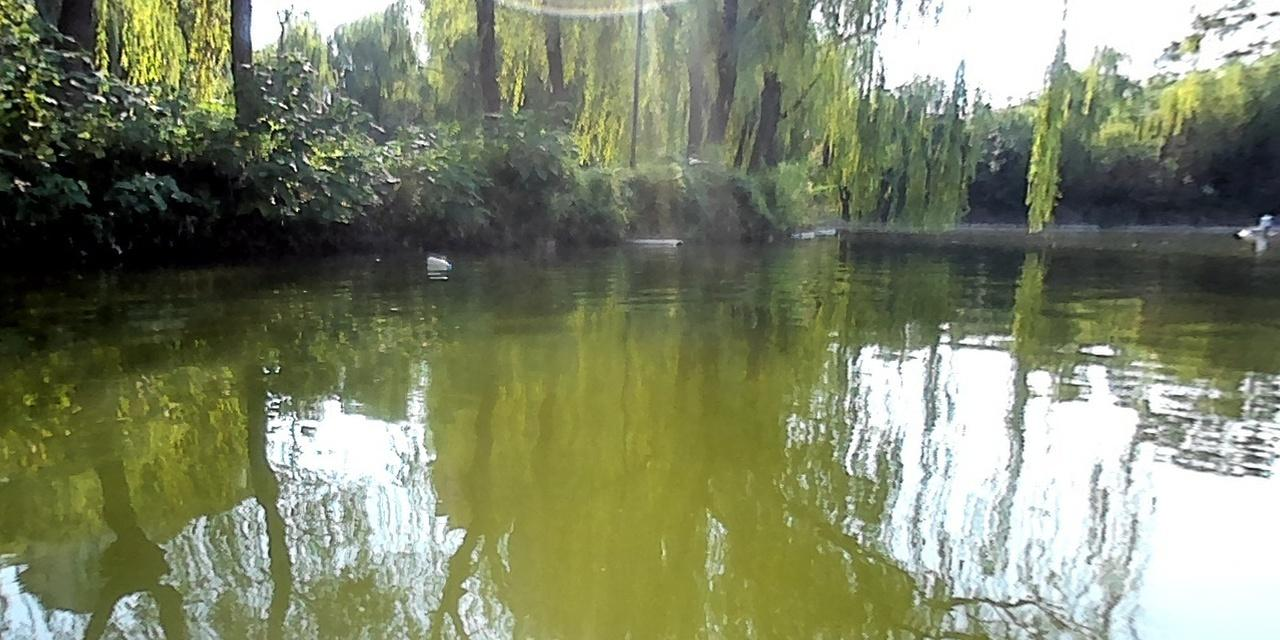bottle: (425, 257, 451, 272)
